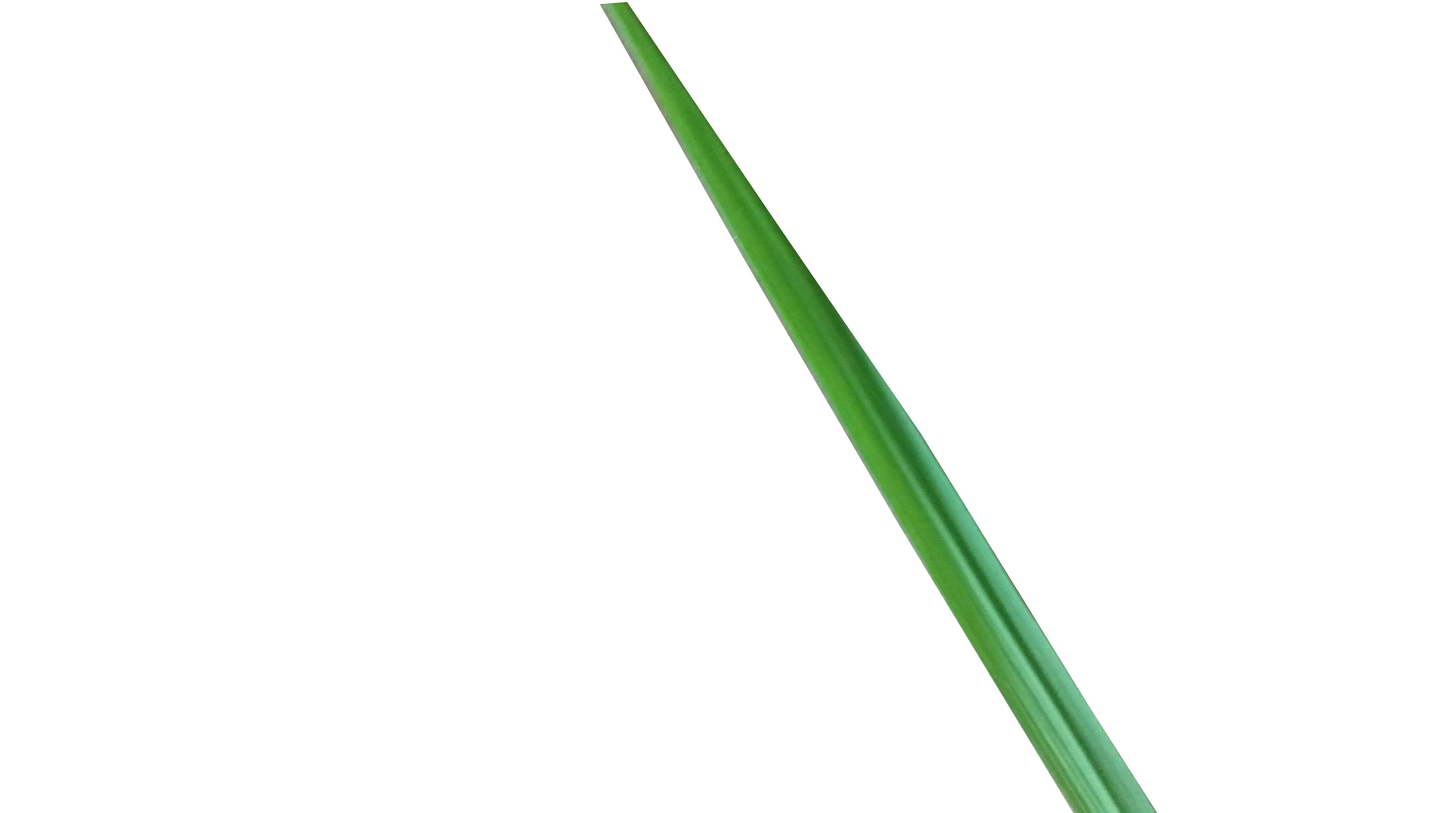Healthy: (604, 3, 1160, 813)
